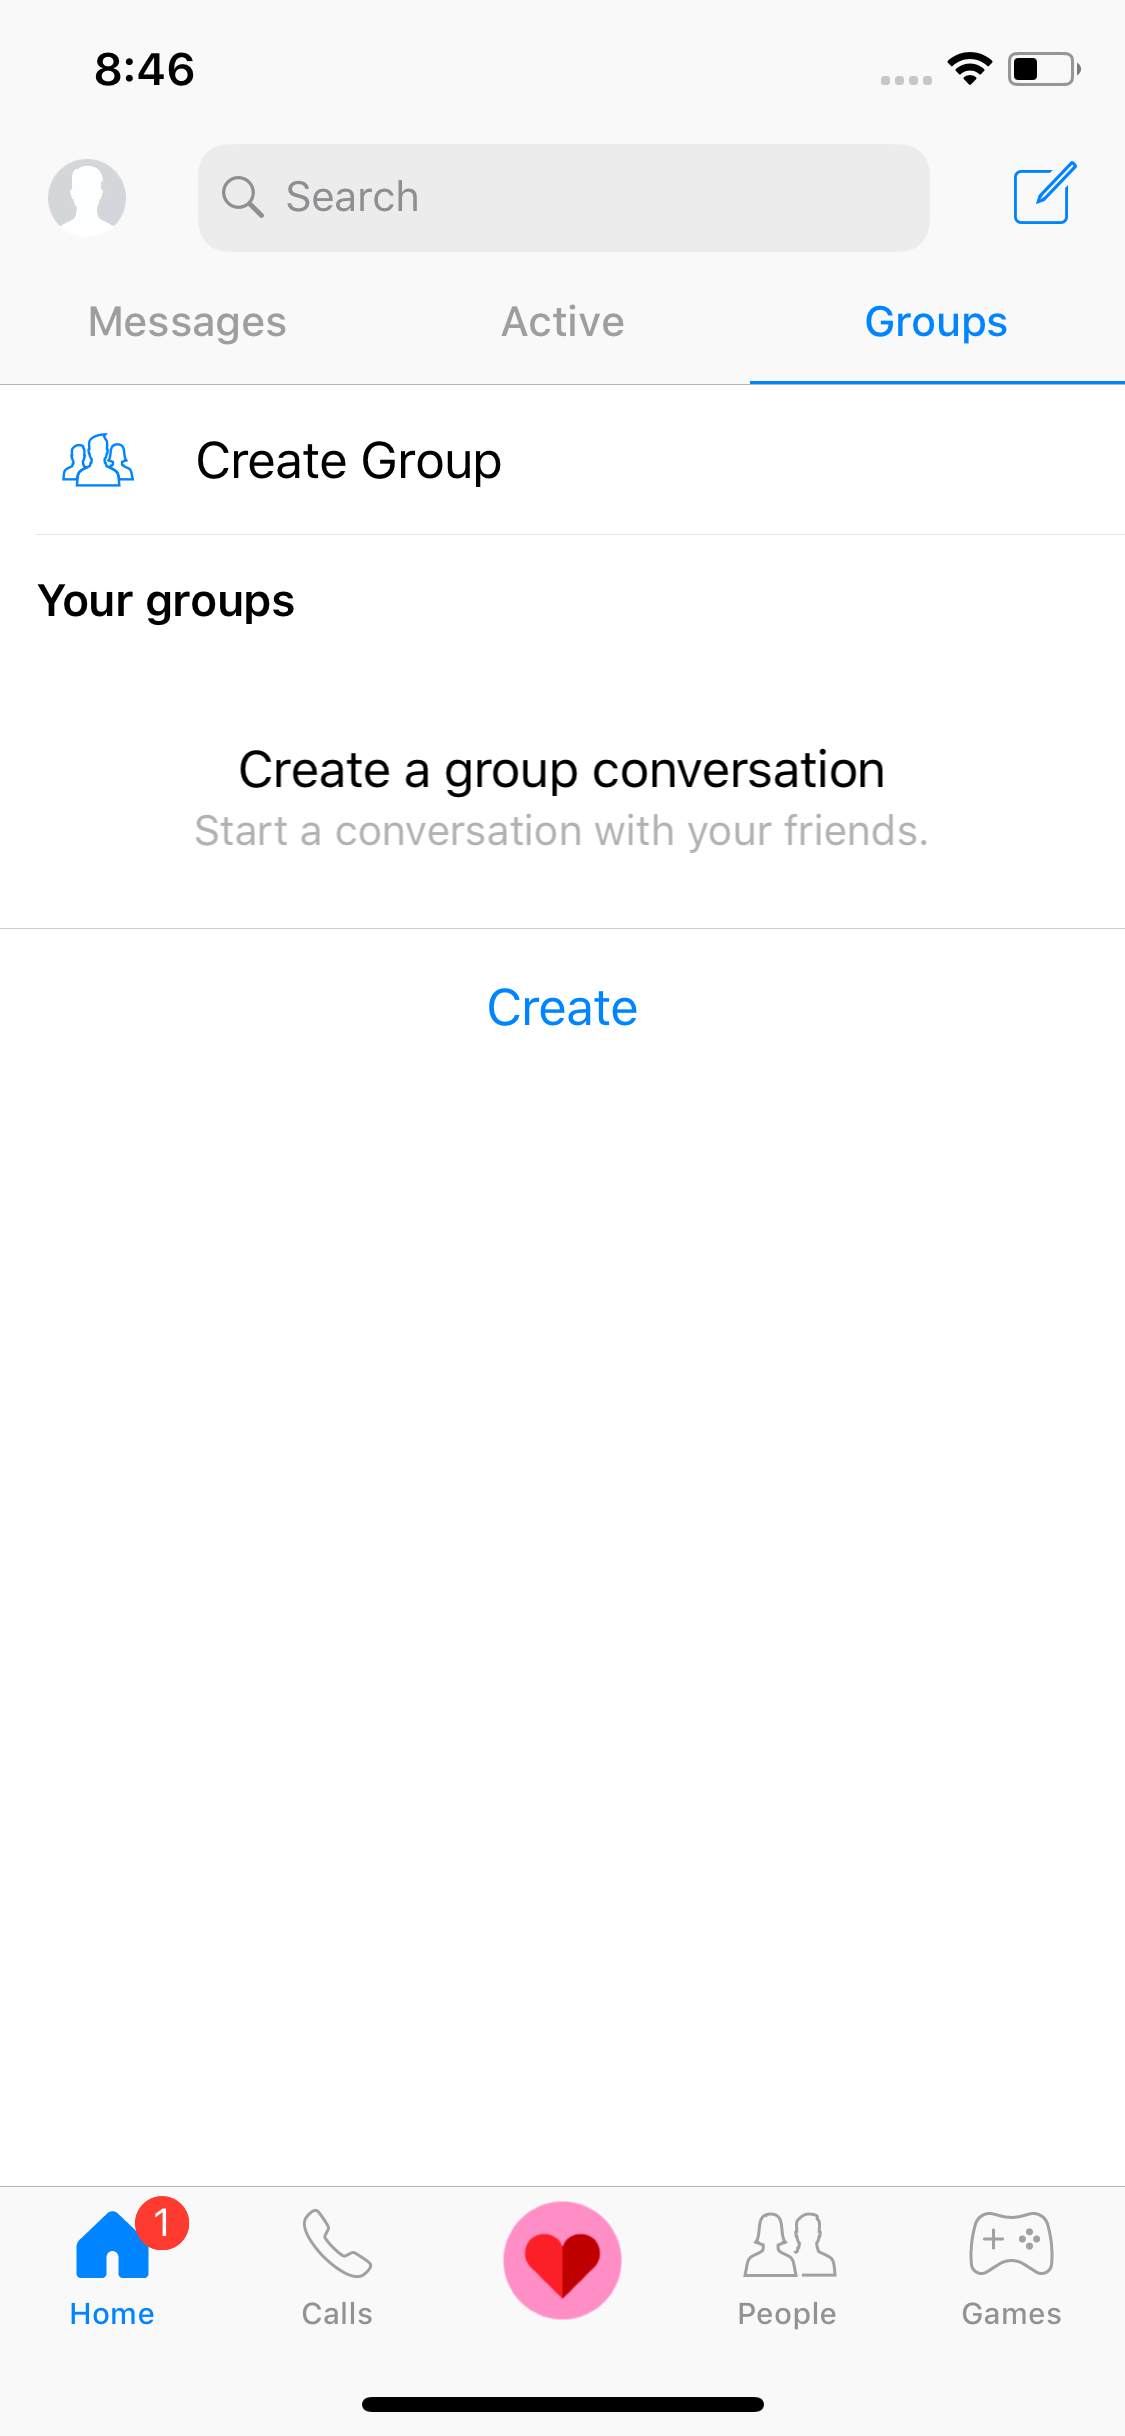Buttons: (31, 384, 547, 541), (423, 949, 715, 1063), (982, 138, 1106, 242)
